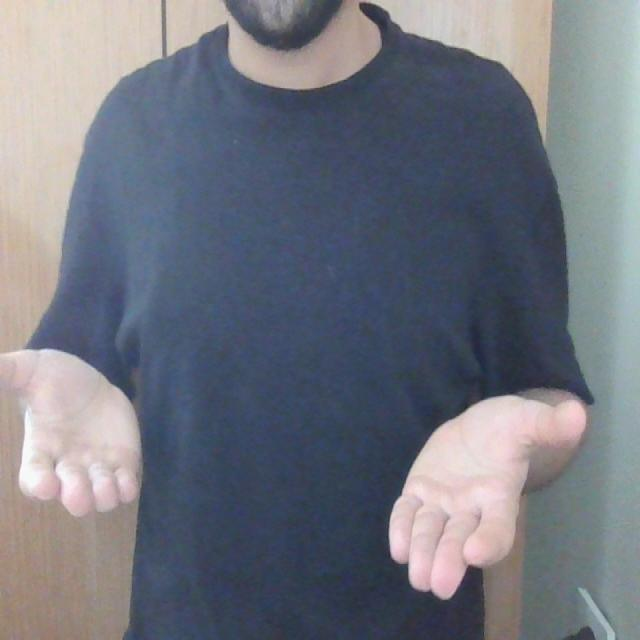Evet: (0, 342, 588, 608)
